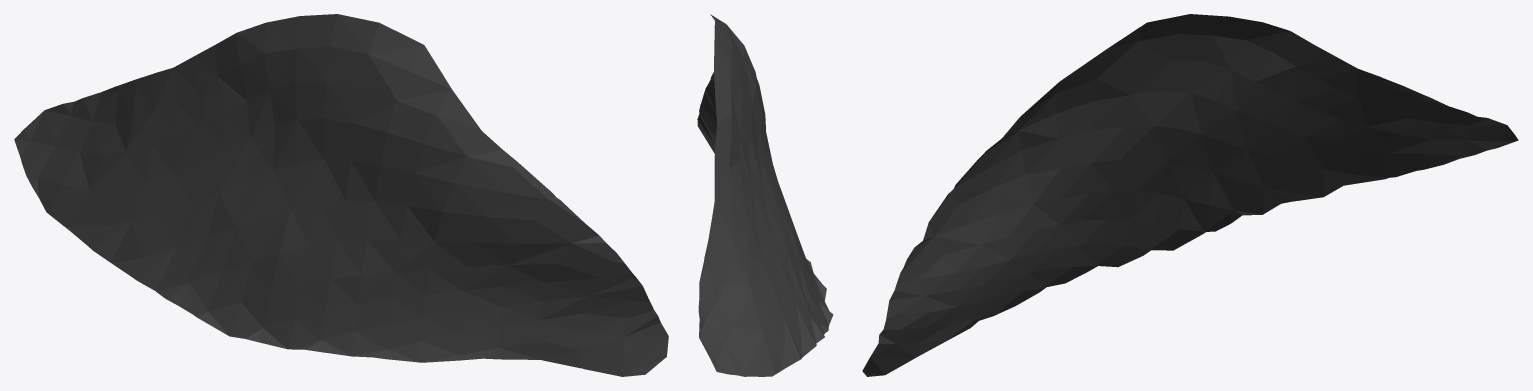
File: eq_dist_limb_Bar.glb
The picture shows the model from 3 angles, left to right: view 1: azimuth 30°, elevation 25°; view 2: azimuth 150°, elevation 25°; view 3: azimuth 270°, elevation 25°; orthographic projection. The views are drawn at different scales.
Visible parts, largest first — view 1: eq_dist_limb_Bar; view 2: eq_dist_limb_Bar; view 3: eq_dist_limb_Bar.
Boxes of the visible parts, x1=… form: eq_dist_limb_Bar: x1=14, y1=14, x2=668, y2=376; eq_dist_limb_Bar: x1=697, y1=14, x2=833, y2=376; eq_dist_limb_Bar: x1=862, y1=14, x2=1518, y2=376.
Bounding box in the file's own units: 0.00287 × 0.00226 × 0.00453.
1 material, 1 textured.
